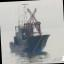fishing boat: (5, 0, 52, 57)
